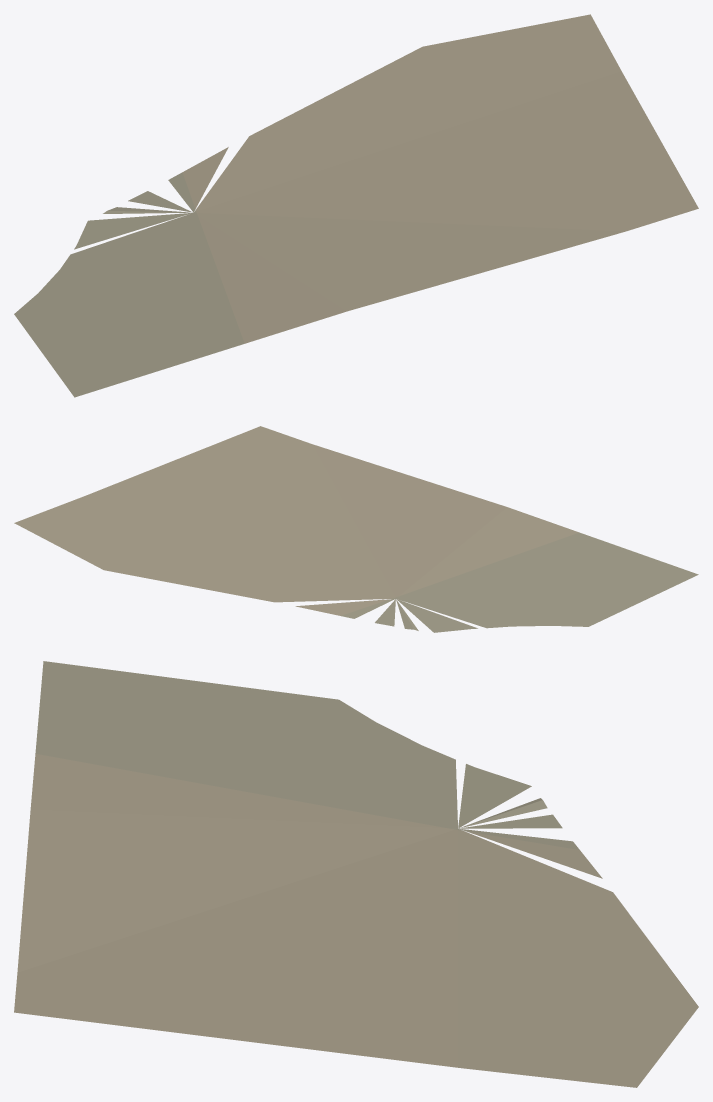
The model's file is farm_16_7_soil.glb.
3 views of the same model, one above another, from view 1: azimuth 30°, elevation 25°; view 2: azimuth 150°, elevation 25°; view 3: azimuth 270°, elevation 25° (orthographic). The views are drawn at different scales.
Visible parts, largest first — view 1: geometry_0; view 2: geometry_0; view 3: geometry_0.
Boxes of the visible parts, left/top/right/bottom form: geometry_0: left=14, top=14, right=698, bottom=397; geometry_0: left=14, top=426, right=698, bottom=632; geometry_0: left=14, top=661, right=698, bottom=1087.
Bounding box in the file's own units: 104 × 7.45 × 60.89.
